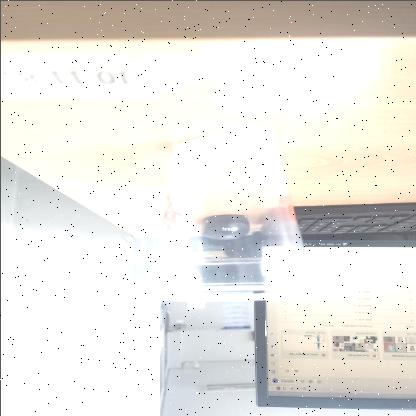Others: (133, 134, 333, 300)
